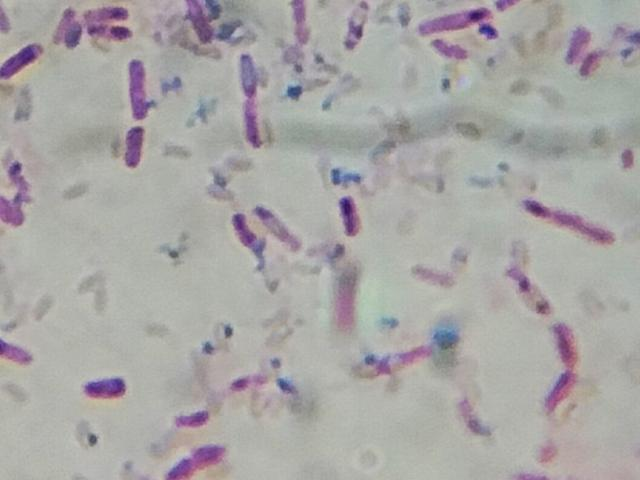E. coli: (522, 193, 618, 247), (238, 53, 272, 152), (546, 319, 586, 403), (158, 435, 220, 478), (259, 200, 302, 256), (341, 0, 385, 53), (511, 265, 559, 313), (562, 22, 600, 80), (180, 0, 228, 43), (422, 2, 490, 32), (0, 37, 42, 81), (0, 173, 34, 227), (82, 5, 129, 41), (82, 365, 126, 403), (128, 59, 155, 115), (49, 6, 83, 48), (228, 212, 257, 259), (335, 189, 361, 241), (169, 402, 211, 431), (289, 1, 316, 45), (0, 337, 38, 368), (125, 125, 150, 170), (431, 36, 471, 57)
